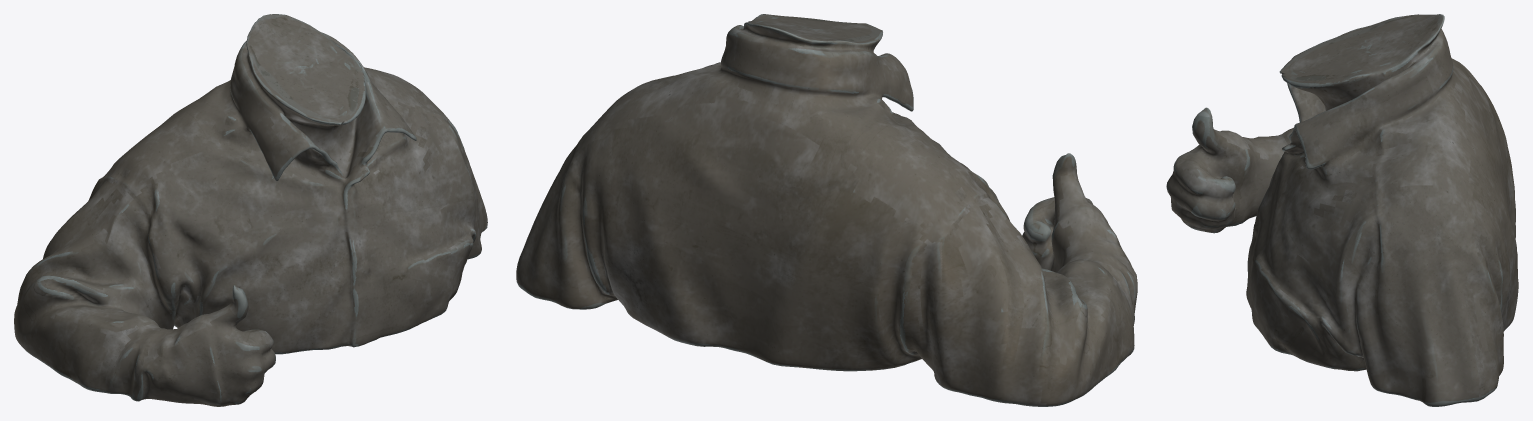
Rendered from Patung_Badan.fbx.
3 views of the same model, side by side, from view 1: azimuth 30°, elevation 25°; view 2: azimuth 150°, elevation 25°; view 3: azimuth 270°, elevation 25° (orthographic). The views are drawn at different scales.
Visible parts, largest first — view 1: badan; view 2: badan; view 3: badan.
Boxes of the visible parts, x1,y1,x2,y2 form: badan: (14, 14, 487, 406); badan: (516, 14, 1137, 406); badan: (1166, 14, 1518, 406).
Size of the model in its own units: 69.47 by 41.86 by 37.48.
1 material, 1 textured.
